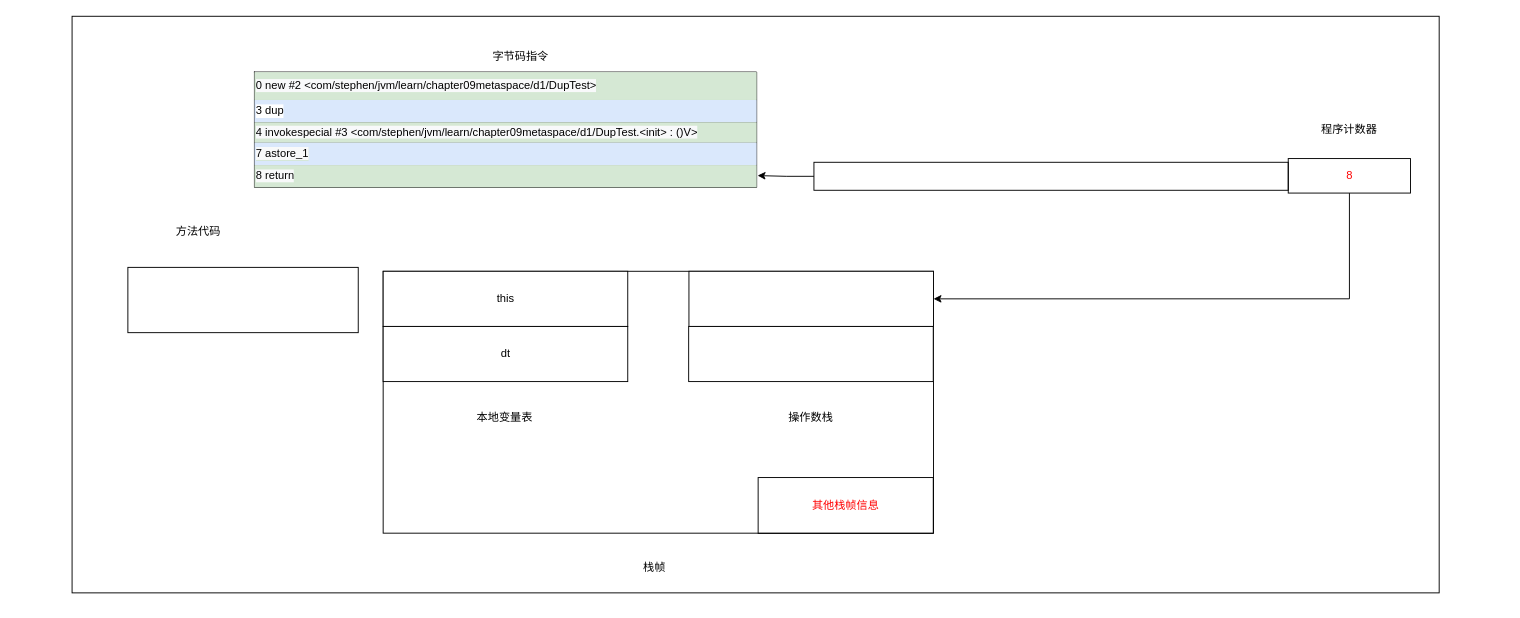
This 1520x618 diagram has some shape labels left out. Here are the shapes that lost their labels. From the top down, the centre of each, then its label:
(1050,175): 结束方法，返回void，并弹出栈帧
(242,299): public void test () { DupTest dt = new DupTest() ; }
